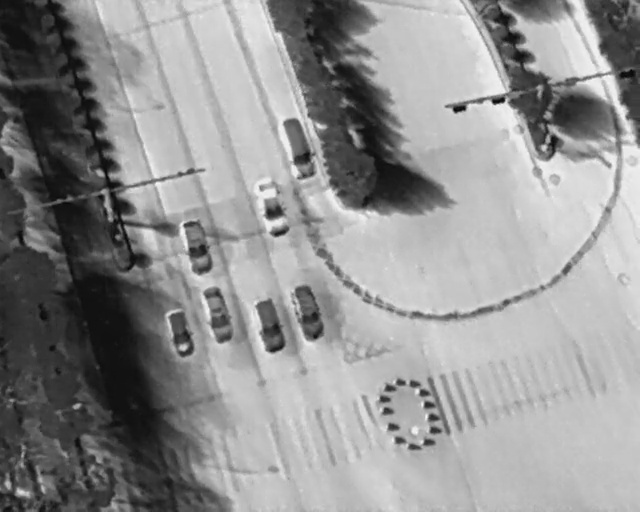Car: (248, 173, 295, 242), (274, 114, 319, 181), (194, 283, 237, 347), (286, 282, 327, 344), (176, 215, 215, 278), (247, 295, 287, 355), (162, 305, 196, 359)
